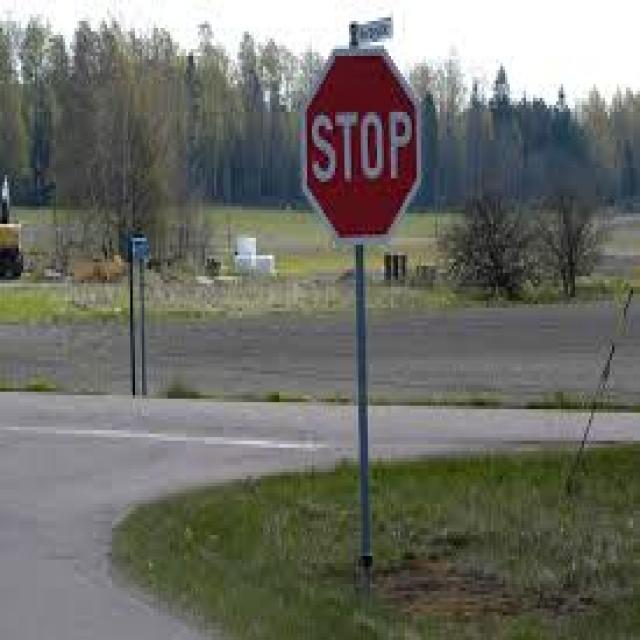stop-sign: (275, 39, 437, 224)
